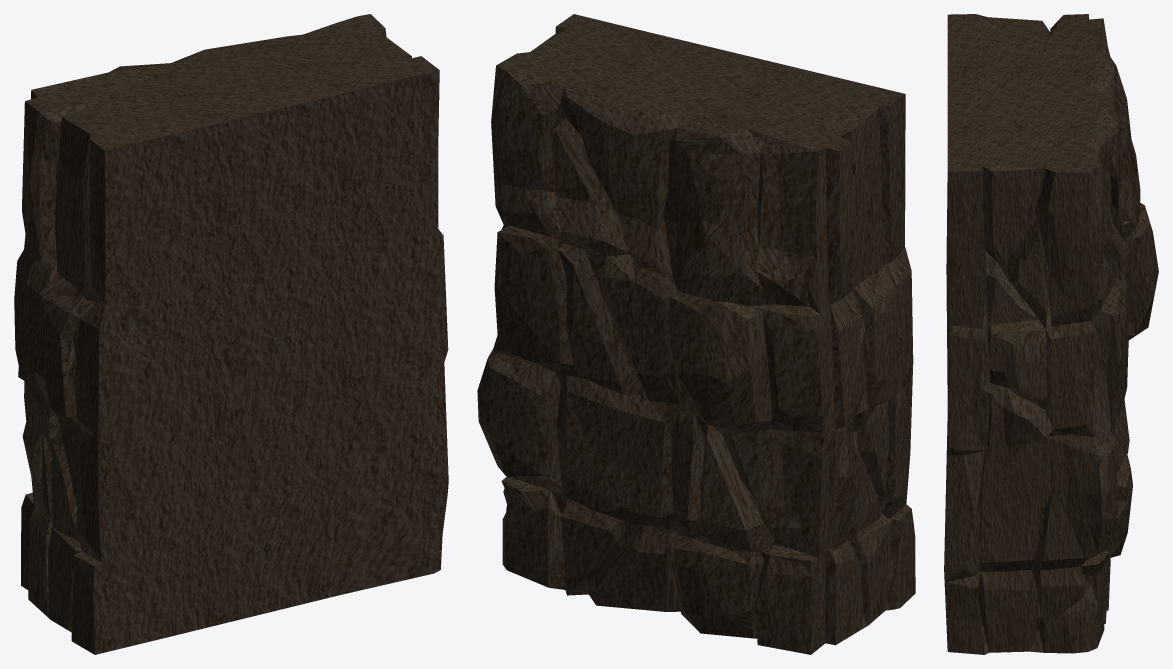
File: cave-wall4_bkp.glb
3 renders of one model, left to right at view 1: azimuth 30°, elevation 25°; view 2: azimuth 150°, elevation 25°; view 3: azimuth 270°, elevation 25°, orthographic. The views are drawn at different scales.
Parts seen in each view (by area): view 1: Cube.003; view 2: Cube.003; view 3: Cube.003.
Boxes of the visible parts, x1,y1,x2,y2 form: Cube.003: (14,14,448,654); Cube.003: (477,14,915,654); Cube.003: (944,14,1158,654).
Bounding box in the file's own units: 4.71 × 6.13 × 2.43.
Materials: 1 (1 with a texture image).
